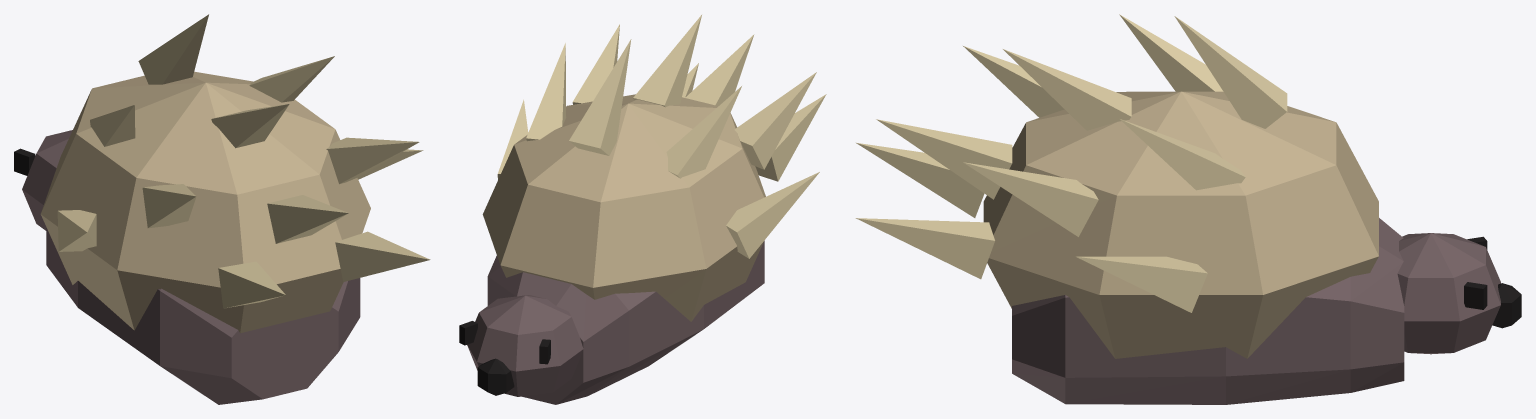
File: animal_porcupine.obj
The picture shows the model from 3 angles, left to right: view 1: azimuth 30°, elevation 25°; view 2: azimuth 150°, elevation 25°; view 3: azimuth 270°, elevation 25°; orthographic projection. The views are drawn at different scales.
Visible parts, largest first — view 1: animal_porcupine; view 2: animal_porcupine; view 3: animal_porcupine.
Boxes of the visible parts, x1=… form: animal_porcupine: x1=14, y1=14, x2=430, y2=404; animal_porcupine: x1=459, y1=15, x2=826, y2=404; animal_porcupine: x1=855, y1=14, x2=1521, y2=404.
Bounding box in the file's own units: 0.4652 × 0.4541 × 0.7473.
